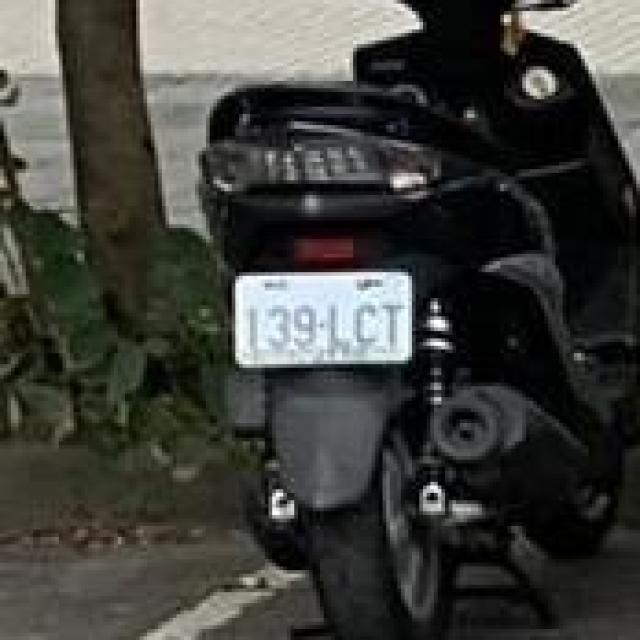W: (217, 254, 430, 382)
